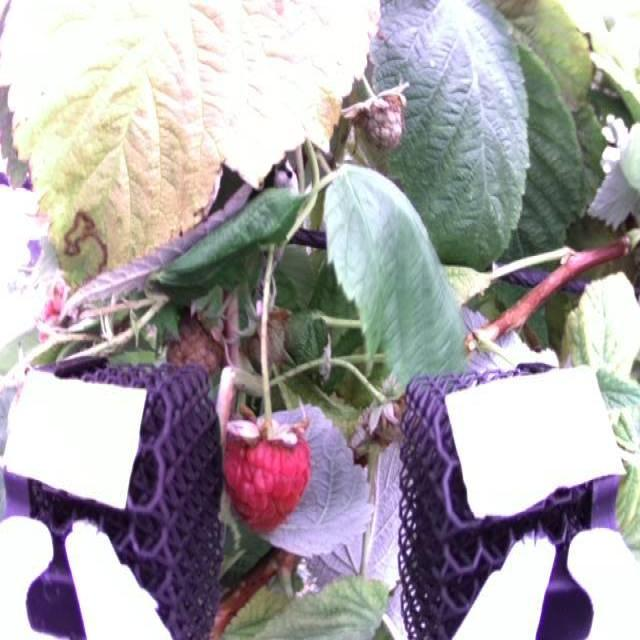Riped berries: (220, 410, 314, 534)
